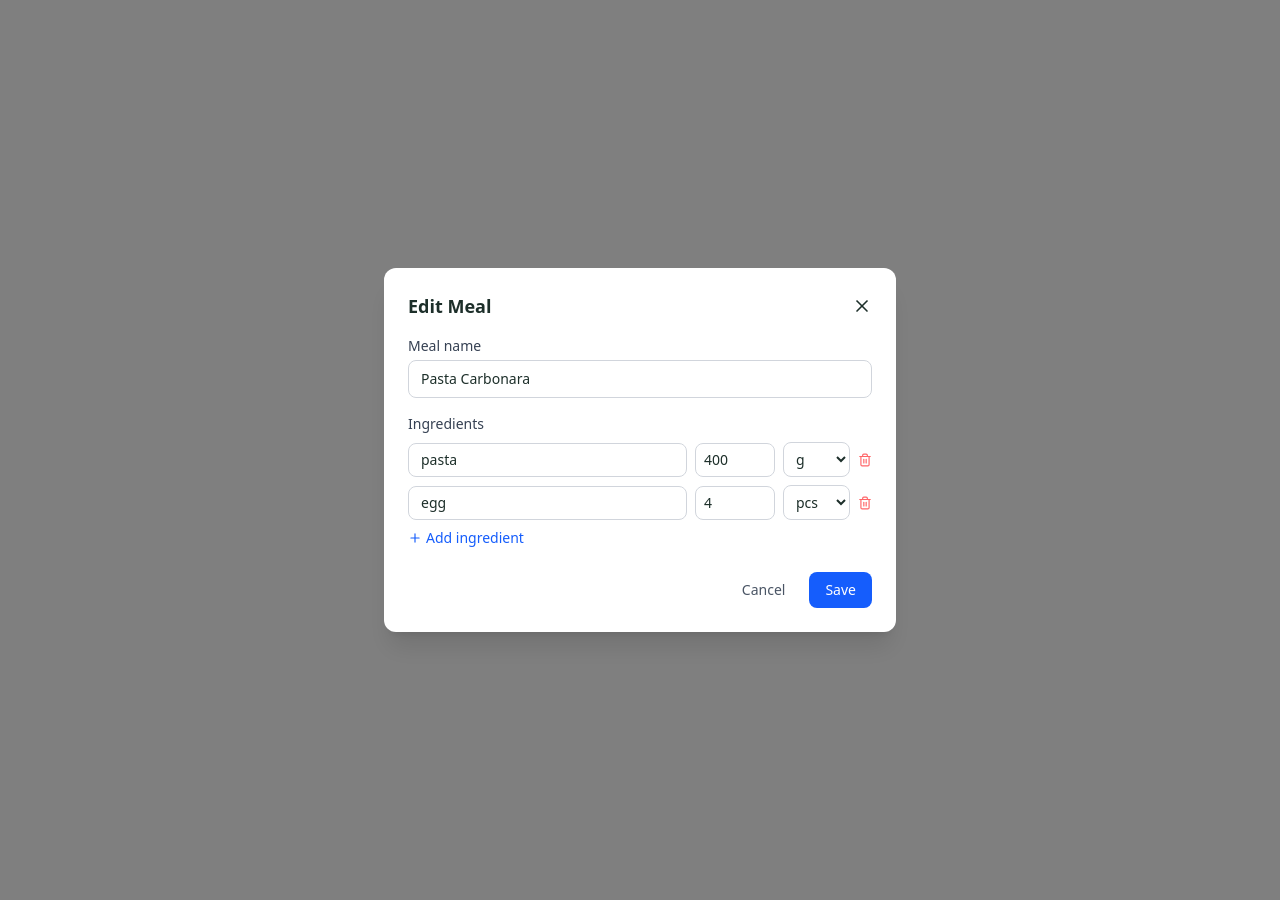
Test case: EditMealModal › adds a new ingredient row when Add button clicked
Click the button "Add ingredient" at (466, 538), box [408,528,524,548]
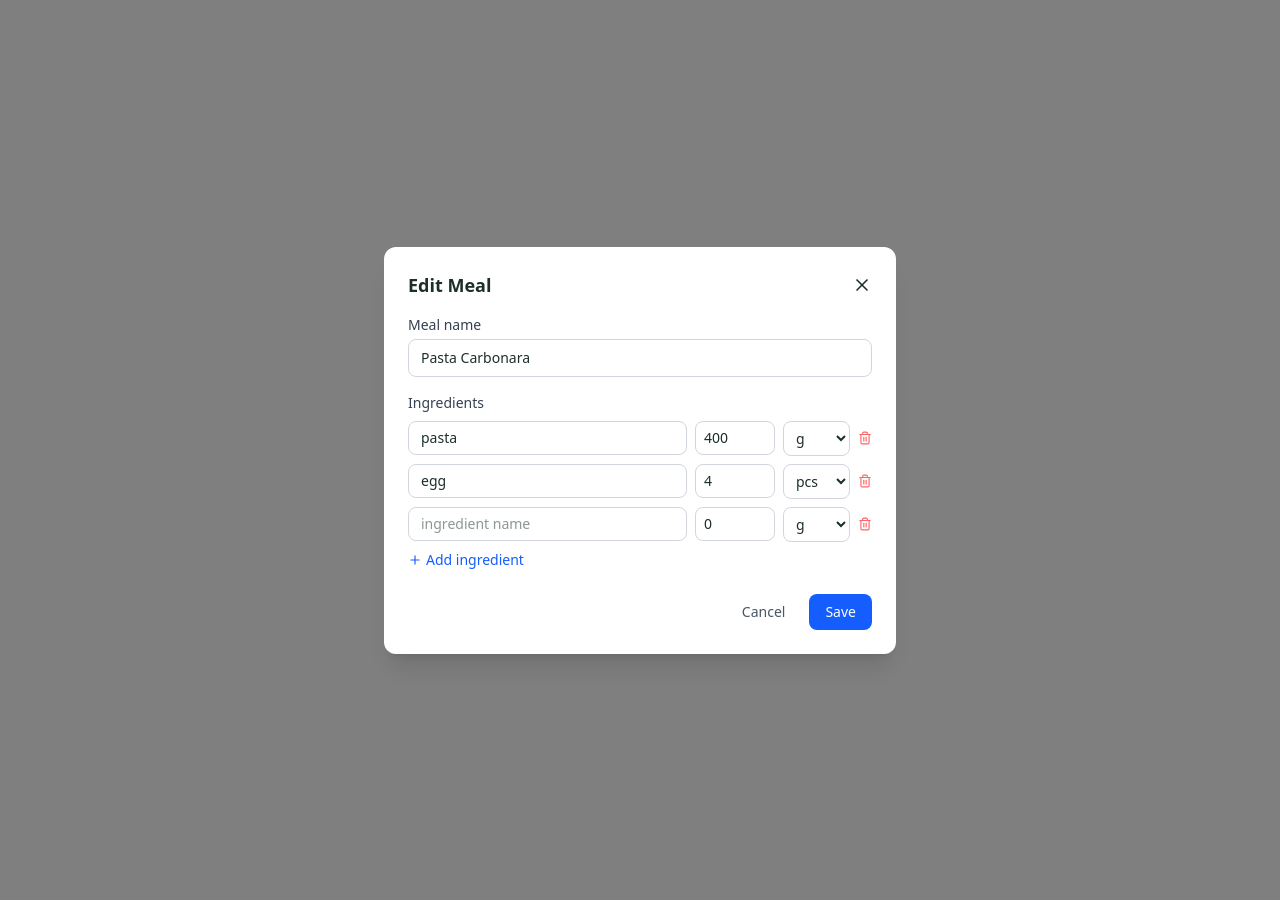
Expected: the number of fields with placeholder "ingredient name" is 3, [408,421,687,455]; [408,464,687,498]; [408,507,687,541]
